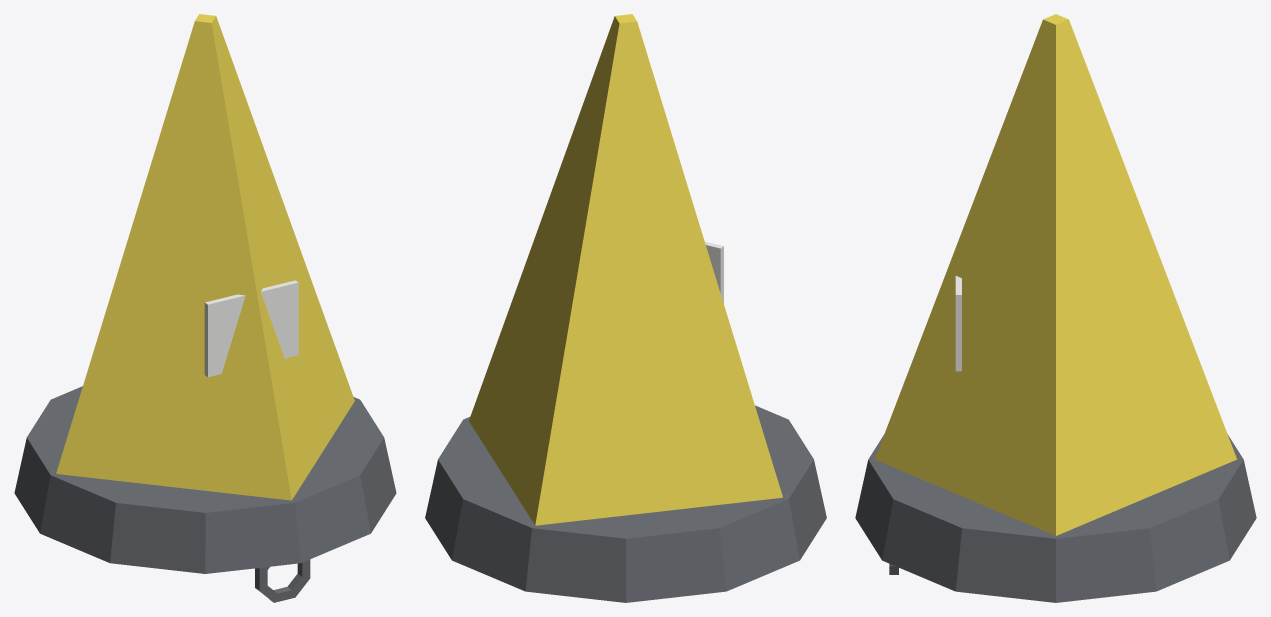
The model's file is marina-and-yacht-club-marina-and-yacht-club-race-mark--d2b7a061__38325.glb.
3 views of the same model, side by side, from view 1: azimuth 30°, elevation 25°; view 2: azimuth 150°, elevation 25°; view 3: azimuth 270°, elevation 25° (orthographic). The views are drawn at different scales.
Visible parts, largest first — view 1: marina-and-yacht-club-race-mark-buoy; view 2: marina-and-yacht-club-race-mark-buoy; view 3: marina-and-yacht-club-race-mark-buoy.
Part boxes in pixels (left/top/right/bottom): marina-and-yacht-club-race-mark-buoy: left=14, top=14, right=396, bottom=602; marina-and-yacht-club-race-mark-buoy: left=425, top=14, right=826, bottom=602; marina-and-yacht-club-race-mark-buoy: left=855, top=14, right=1256, bottom=602.
Bounding box in the file's own units: 1.24 × 1.88 × 1.24.
